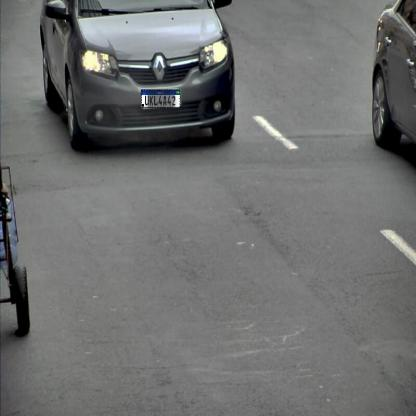PlacaM: (141, 90, 180, 108)
